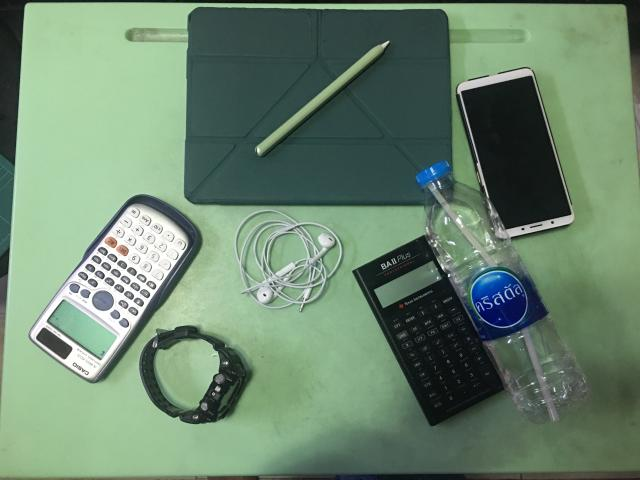Mobile phone: (456, 68, 574, 238)
Watch: (140, 326, 246, 424)
bottle: (416, 161, 590, 422)
wire: (235, 209, 342, 311)
